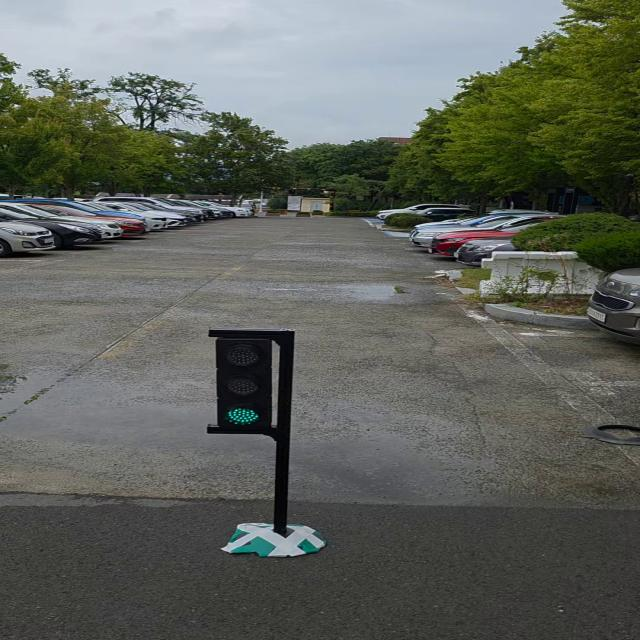green: (218, 331, 290, 433)
